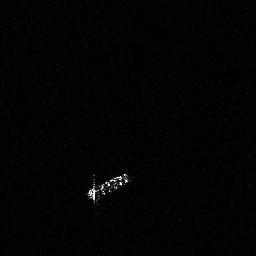ship: (84, 172, 133, 208)
